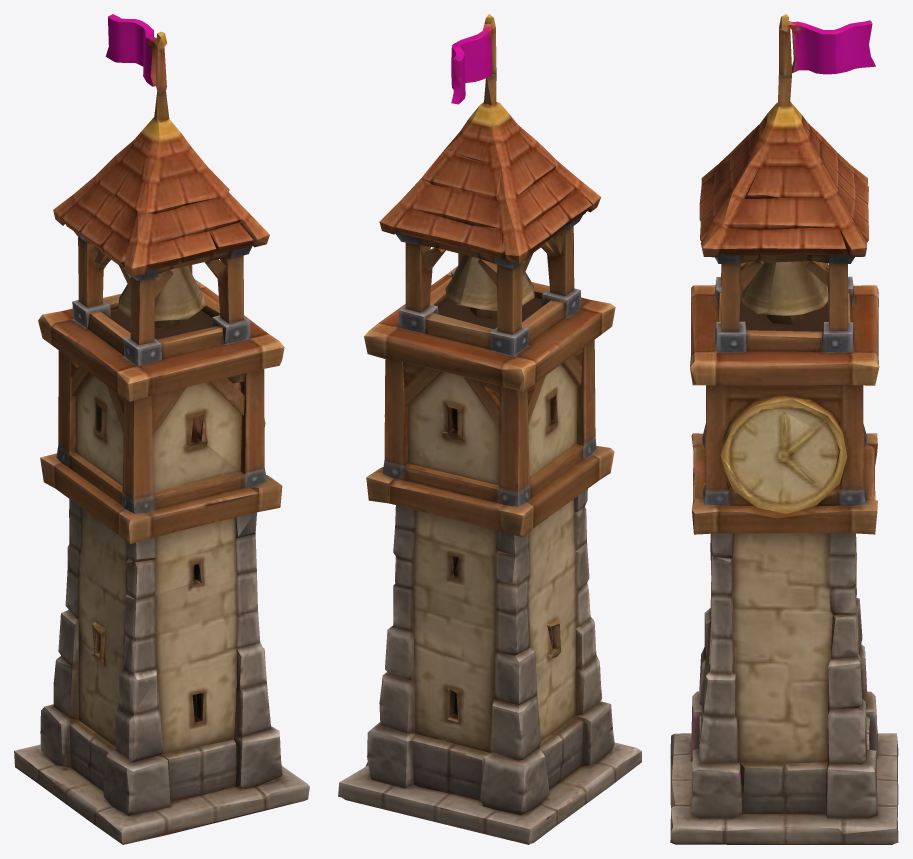
File: clock.lod1.glb
3 views of the same model, side by side, from view 1: azimuth 30°, elevation 25°; view 2: azimuth 150°, elevation 25°; view 3: azimuth 270°, elevation 25° (orthographic). The views are drawn at different scales.
Parts seen in each view (by area): view 1: clock.lod1_uv; view 2: clock.lod1_uv; view 3: clock.lod1_uv.
Part boxes in pixels (left/top/right/bottom): clock.lod1_uv: left=14, top=14, right=309, bottom=844; clock.lod1_uv: left=338, top=14, right=641, bottom=844; clock.lod1_uv: left=670, top=14, right=898, bottom=844.
Bounding box in the file's own units: 0.5005 × 1.9 × 0.5007.
Materials: 1 (1 with a texture image).
